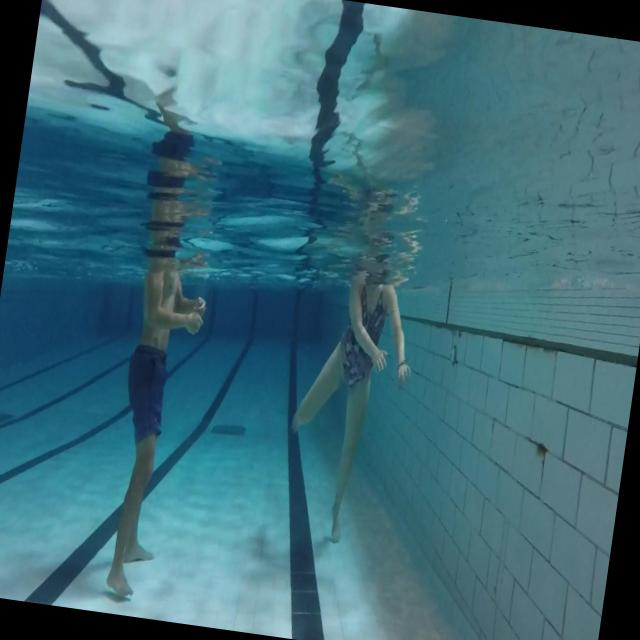human: (85, 90, 236, 604), (275, 242, 428, 551)
